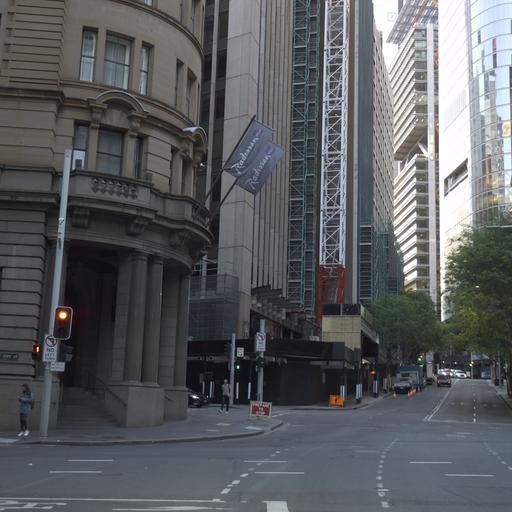Street light: (37, 119, 208, 438), (181, 125, 208, 169), (52, 305, 73, 340), (30, 340, 41, 362), (416, 354, 423, 366)
